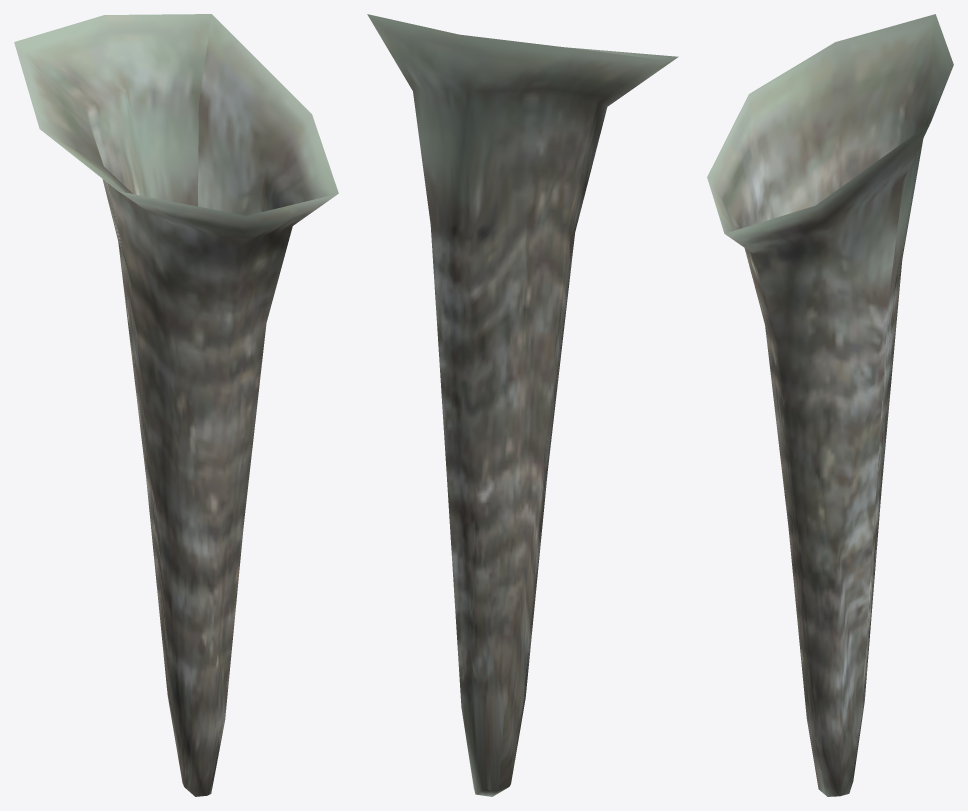
Rendered from TROLLHOLE02_PS-UPPERSTALAG31.fbx.
3 views of the same model, side by side, from view 1: azimuth 30°, elevation 25°; view 2: azimuth 150°, elevation 25°; view 3: azimuth 270°, elevation 25° (orthographic). The views are drawn at different scales.
Parts seen in each view (by area): view 1: TROLLHOLE02_PS-UPPERSTALAG31; view 2: TROLLHOLE02_PS-UPPERSTALAG31; view 3: TROLLHOLE02_PS-UPPERSTALAG31.
Boxes of the visible parts, x1=… form: TROLLHOLE02_PS-UPPERSTALAG31: x1=14, y1=14, x2=338, y2=796; TROLLHOLE02_PS-UPPERSTALAG31: x1=367, y1=14, x2=678, y2=796; TROLLHOLE02_PS-UPPERSTALAG31: x1=707, y1=14, x2=953, y2=796.
Size of the model in its own units: 10379 by 28268 by 8791.
Materials: 1 (1 with a texture image).
